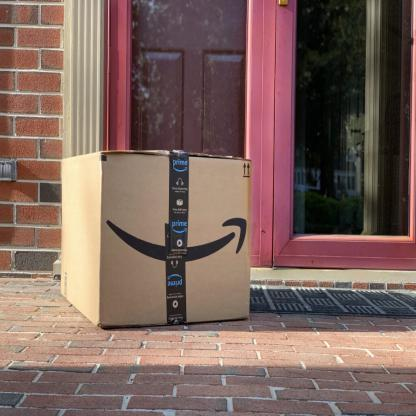package: (59, 149, 252, 331)
